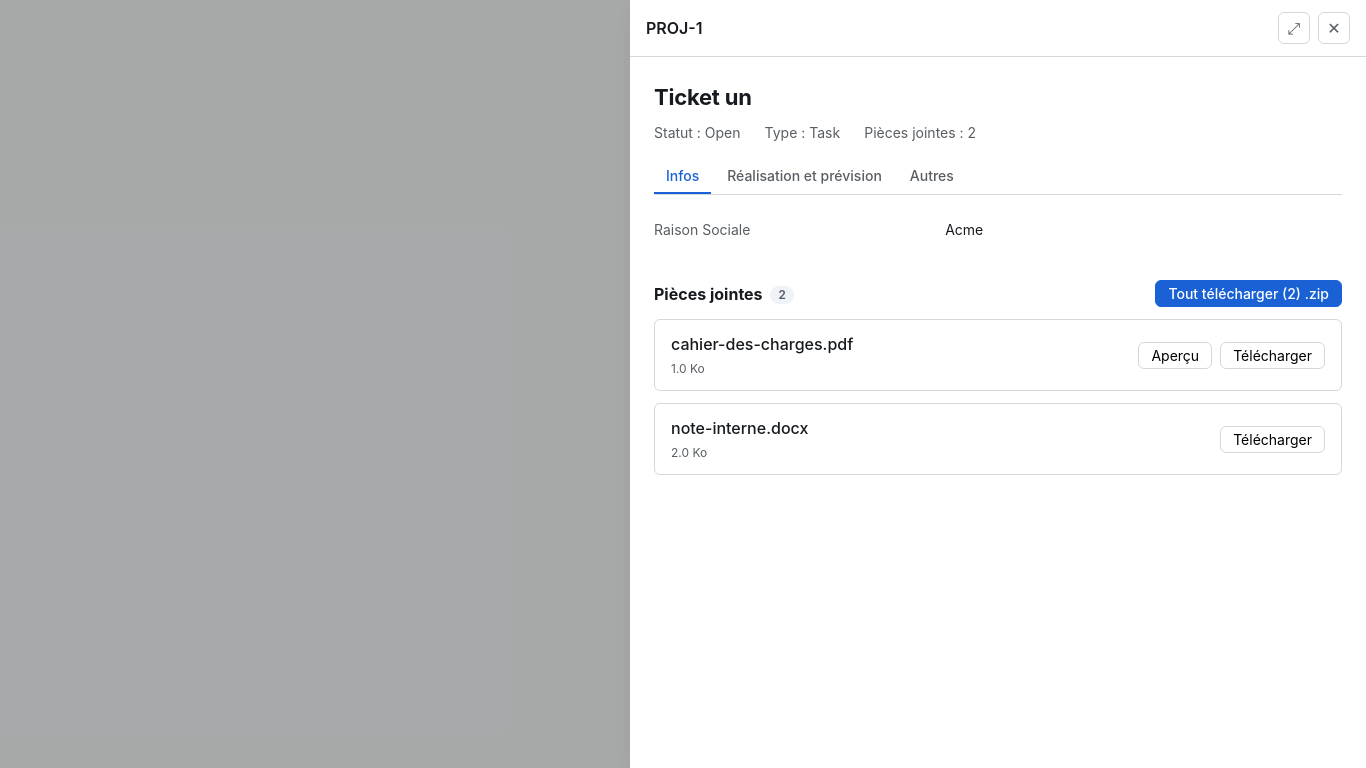
IssueDetailDrawer — attachments filtered by reporter for the USER role › shows an error when the archive cannot be built
This screenshot has width=1366, height=768.
Click the button "Tout télécharger (2) .zip".
click(1249, 294)  # box [1155,280,1342,307]
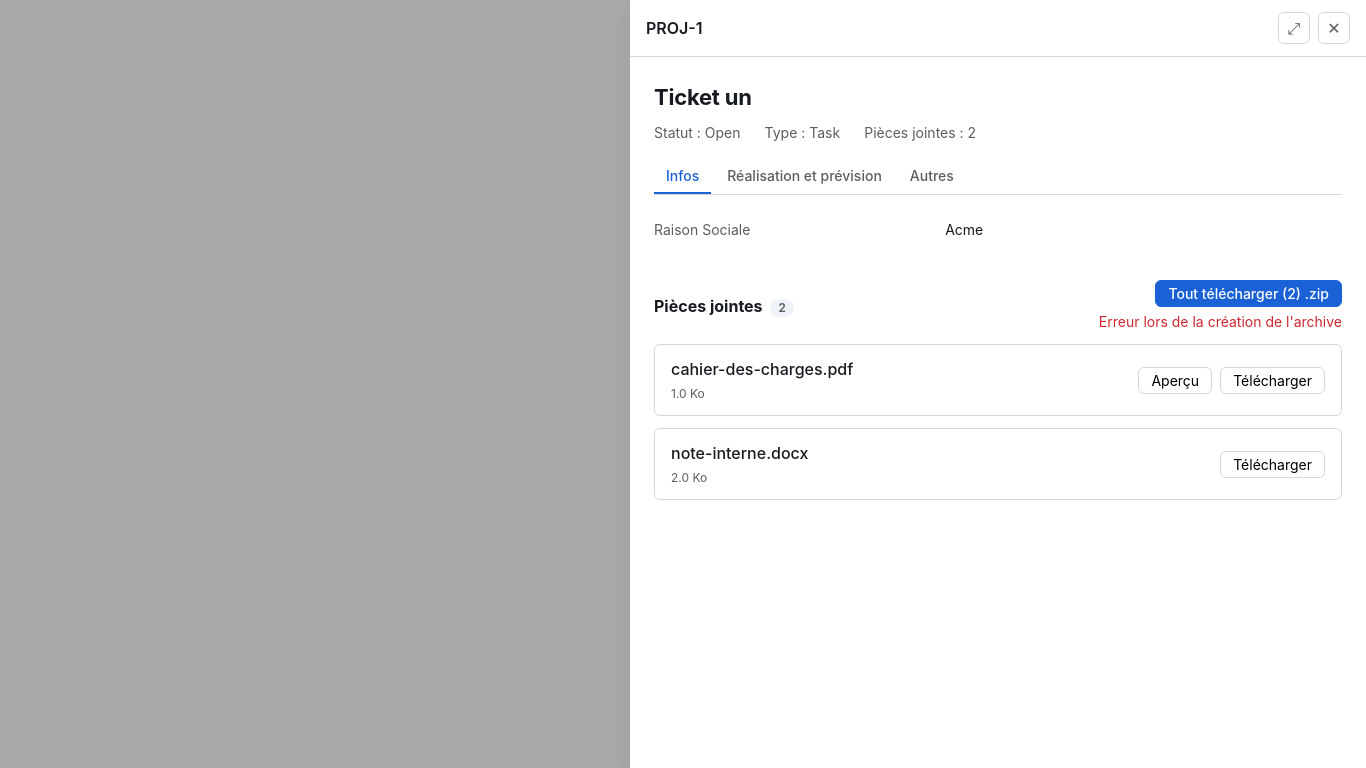
expect the message reads "Erreur lors de la création de l'archive": met, box [1099,313,1342,330]
